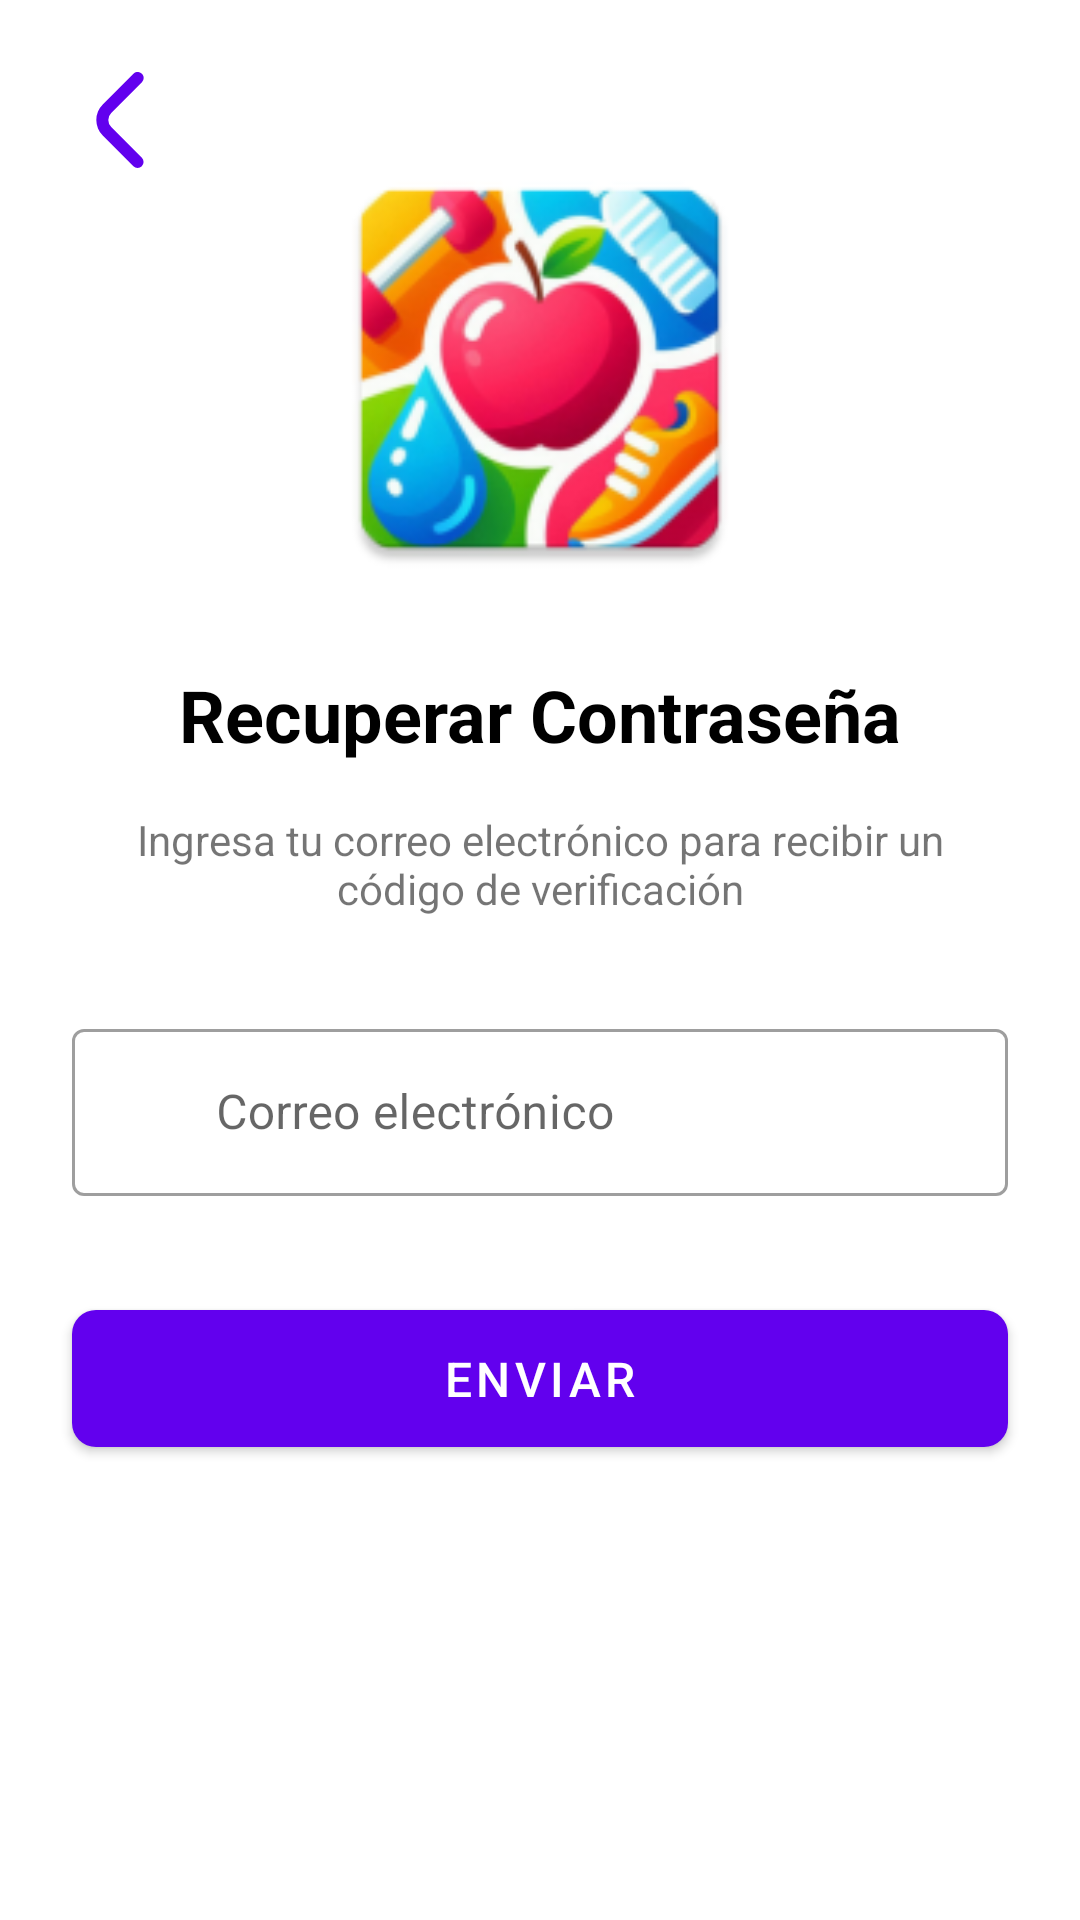

Point at icon controls on the screen. Image size 1080w x 1920h, points as (x=x, y=y).
volver: (x=120, y=120)
